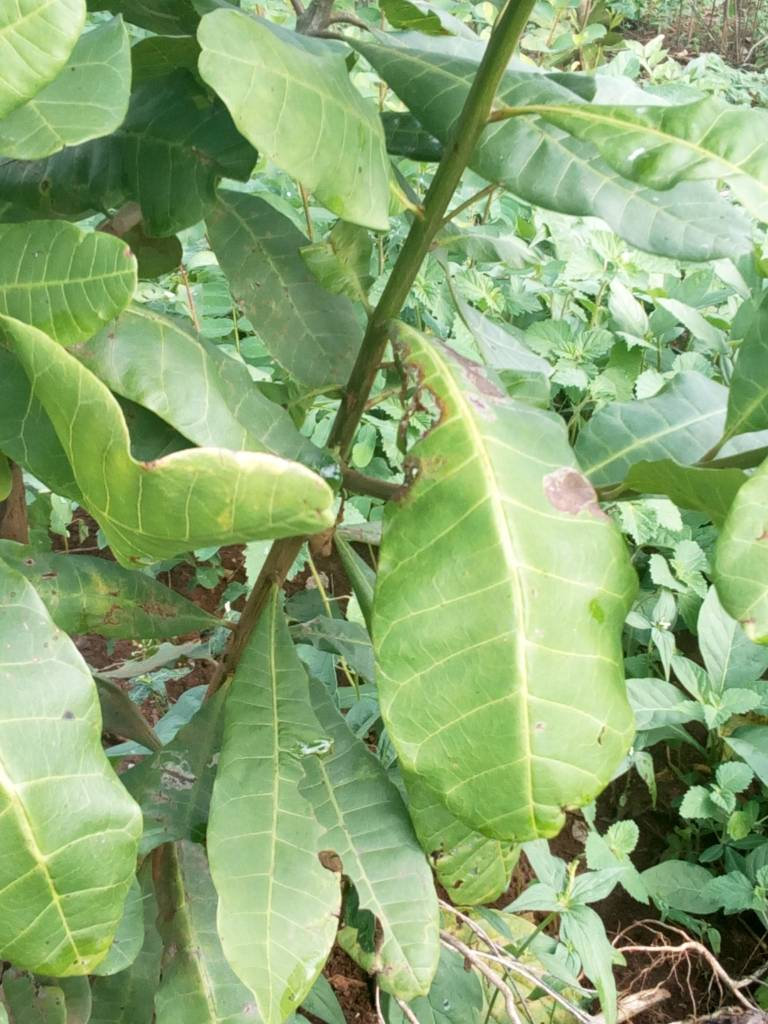Dysdercus wolkerii: (360, 313, 655, 849)
